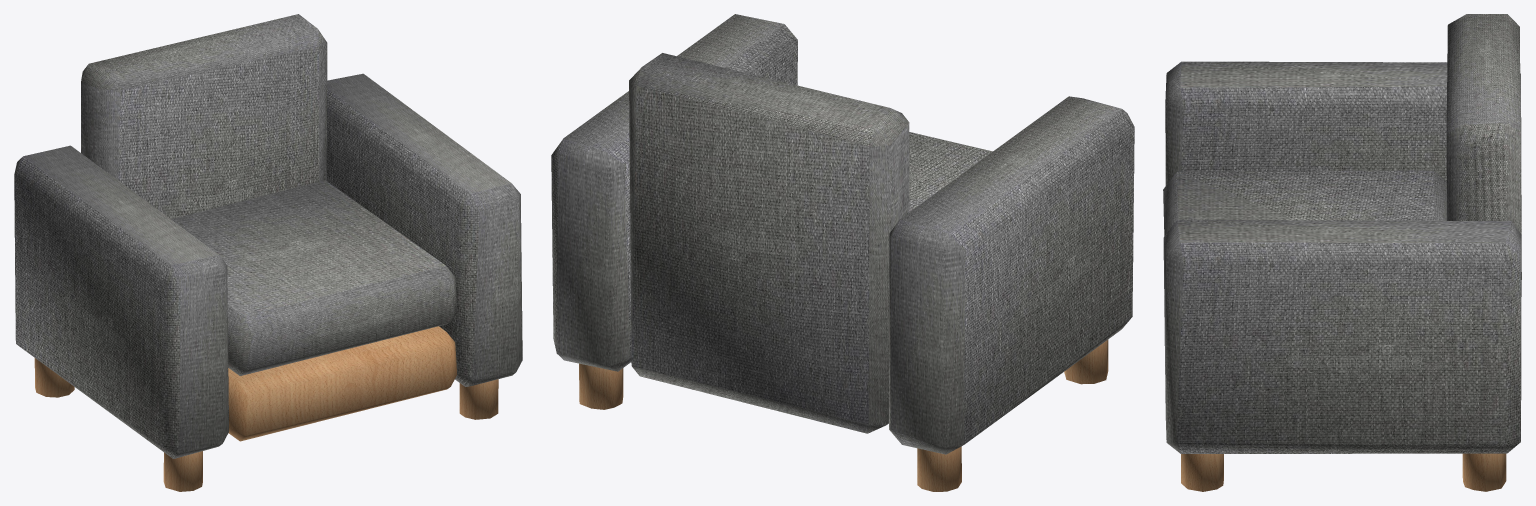
File: single_sofa.dae
The picture shows the model from 3 angles, left to right: view 1: azimuth 30°, elevation 25°; view 2: azimuth 150°, elevation 25°; view 3: azimuth 270°, elevation 25°; orthographic projection. The views are drawn at different scales.
Visible parts, largest first — view 1: armshair, armshair.001; view 2: armshair, armshair.001; view 3: armshair, armshair.001.
Part boxes in pixels (left/top/right/bottom): armshair: left=14, top=14, right=522, bottom=458; armshair.001: left=34, top=358, right=498, bottom=491; armshair: left=551, top=14, right=1134, bottom=454; armshair.001: left=579, top=339, right=1108, bottom=491; armshair: left=1163, top=14, right=1521, bottom=453; armshair.001: left=1181, top=453, right=1506, bottom=491.
Size of the model in its own units: 0.94 by 0.7425 by 0.7726.
2 materials, 2 textured.
